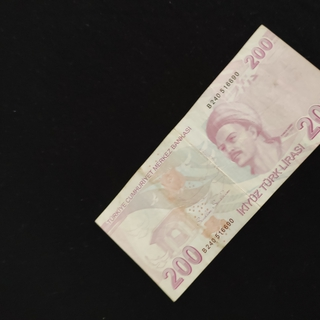200TLBack: (94, 23, 320, 302)
